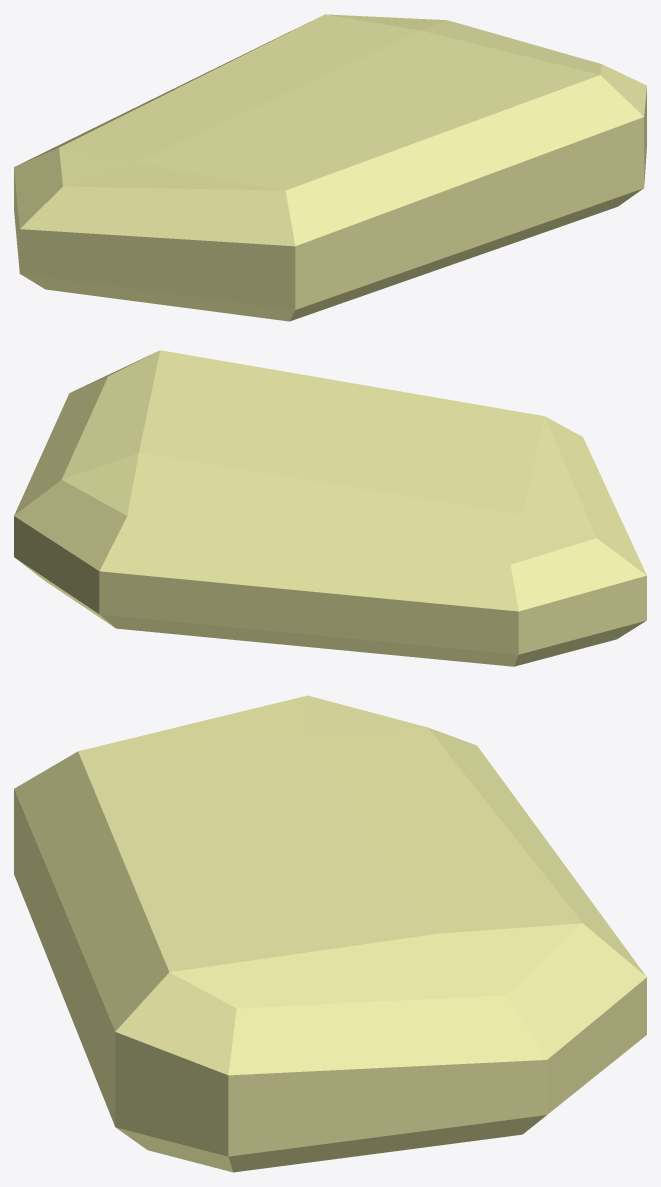
The model's file is Rock_C.FBX.
3 renders of one model, top to bottom at view 1: azimuth 30°, elevation 25°; view 2: azimuth 150°, elevation 25°; view 3: azimuth 270°, elevation 25°, orthographic. The views are drawn at different scales.
Visible parts, largest first — view 1: Rock_C; view 2: Rock_C; view 3: Rock_C.
Boxes of the visible parts, x1,y1,x2,y2 form: Rock_C: (14,14,646,321); Rock_C: (14,350,646,666); Rock_C: (14,695,646,1172).
Size of the model in its own units: 352 by 71.59 by 239.
